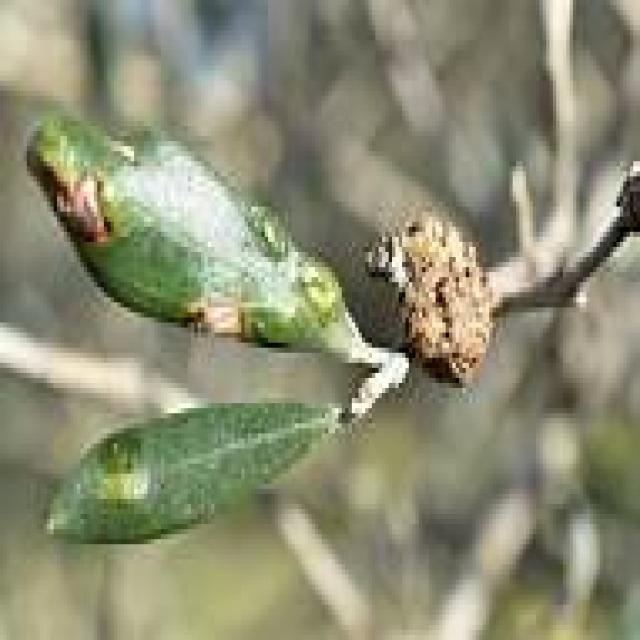OlivePeacockSpot: (27, 106, 328, 344), (44, 403, 272, 549)
Tuberculosis: (365, 207, 466, 383)
